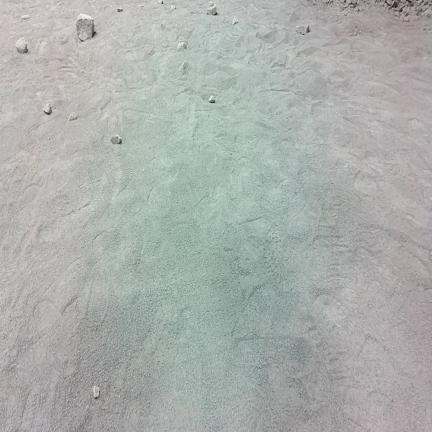Rock: (76, 14, 94, 41), (271, 54, 286, 67), (16, 37, 27, 53), (296, 24, 309, 34), (207, 2, 216, 15), (180, 61, 189, 74), (43, 103, 52, 115), (111, 135, 121, 144), (68, 112, 77, 121), (93, 386, 99, 398), (177, 42, 186, 50), (422, 5, 429, 12), (209, 95, 215, 103), (359, 4, 365, 12), (353, 26, 358, 35), (233, 16, 238, 25), (350, 0, 357, 6), (21, 15, 29, 20), (354, 6, 359, 13), (336, 5, 341, 11), (403, 16, 409, 21), (413, 16, 418, 21), (424, 0, 430, 4), (117, 8, 123, 12), (158, 0, 163, 4), (171, 5, 176, 9), (422, 57, 427, 60), (313, 0, 316, 5), (139, 4, 143, 7), (430, 251, 431, 260)
